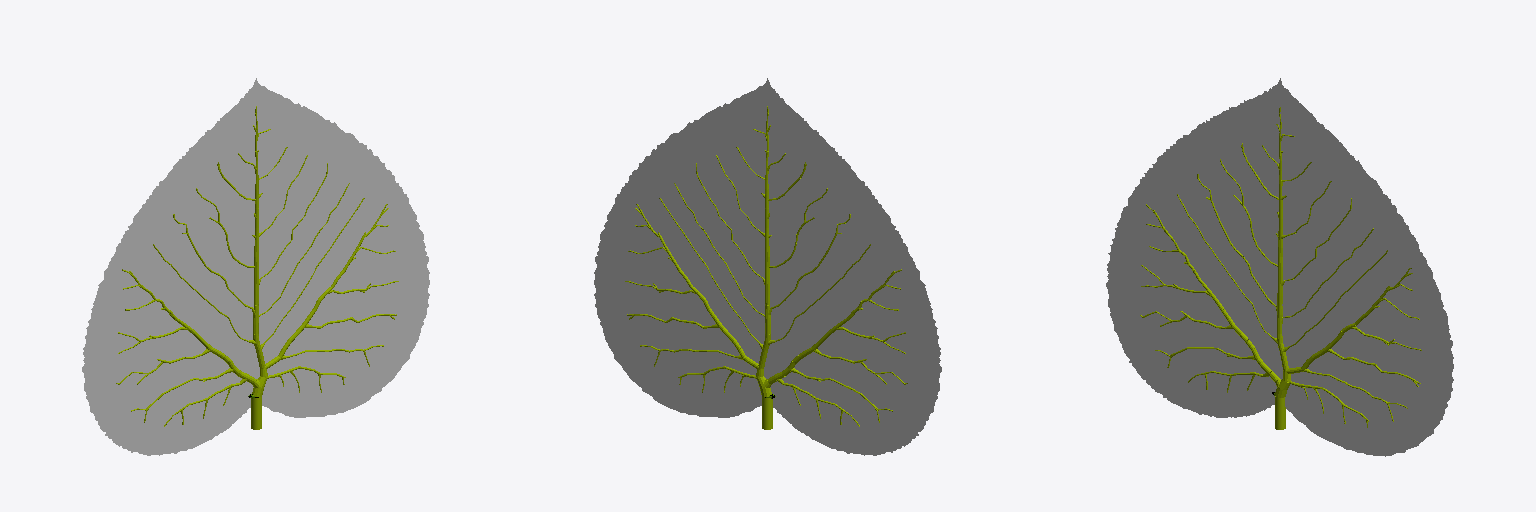
3 views of the same model, side by side, from view 1: azimuth 30°, elevation 25°; view 2: azimuth 150°, elevation 25°; view 3: azimuth 330°, elevation 25° (orthographic).
Parts seen in each view (by area): view 1: LeafParametric; view 2: LeafParametric; view 3: LeafParametric.
Part boxes in pixels (x1,y1,x2,y2): LeafParametric: (82,78,429,455); LeafParametric: (594,78,941,455); LeafParametric: (1106,78,1453,456).
Bounding box in the file's own units: 1.13 × 1.11 × 0.0327.
393 materials, 1 textured.